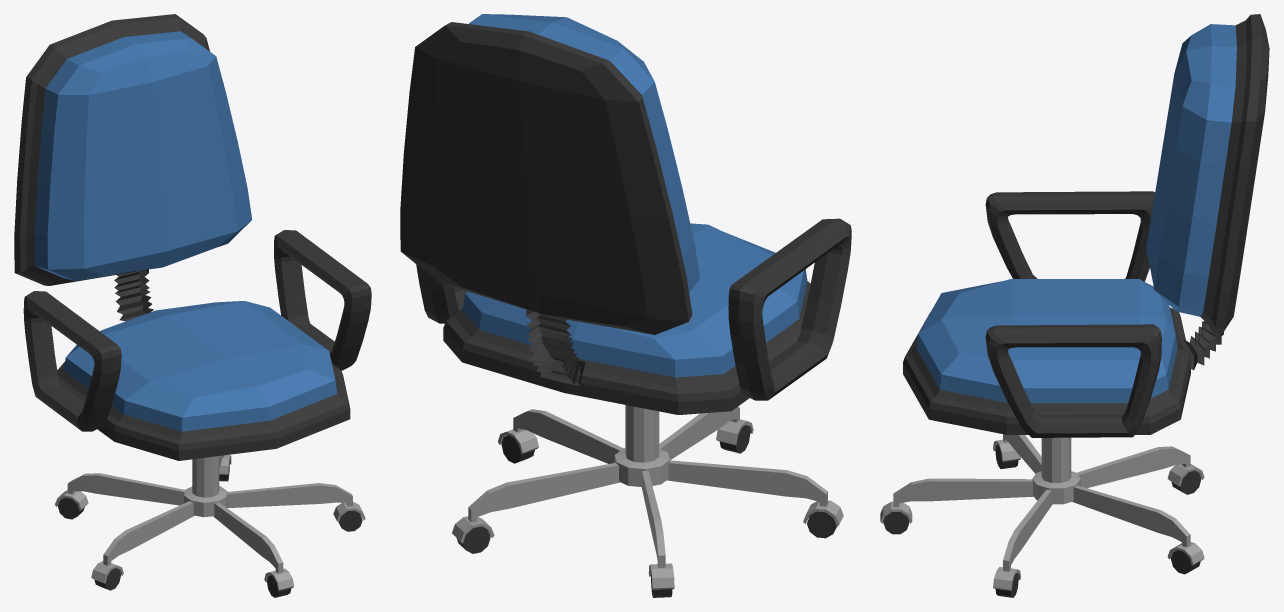
The model's file is office-chair.glb.
The picture shows the model from 3 angles, left to right: view 1: azimuth 30°, elevation 25°; view 2: azimuth 150°, elevation 25°; view 3: azimuth 270°, elevation 25°; orthographic projection. The views are drawn at different scales.
Visible parts, largest first — view 1: OfficeChair; view 2: OfficeChair; view 3: OfficeChair.
Boxes of the visible parts, x1=… form: OfficeChair: x1=14, y1=14, x2=371, y2=597; OfficeChair: x1=400, y1=14, x2=851, y2=597; OfficeChair: x1=880, y1=14, x2=1269, y2=597.
Bounding box in the file's own units: 0.7216 × 1.13 × 0.8072.
